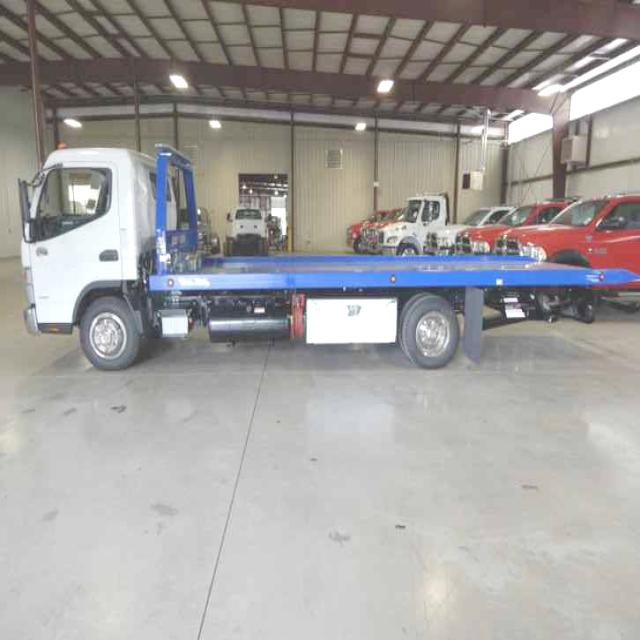truck: (14, 147, 640, 370)
